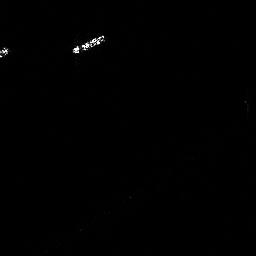ship: (72, 32, 106, 55)
